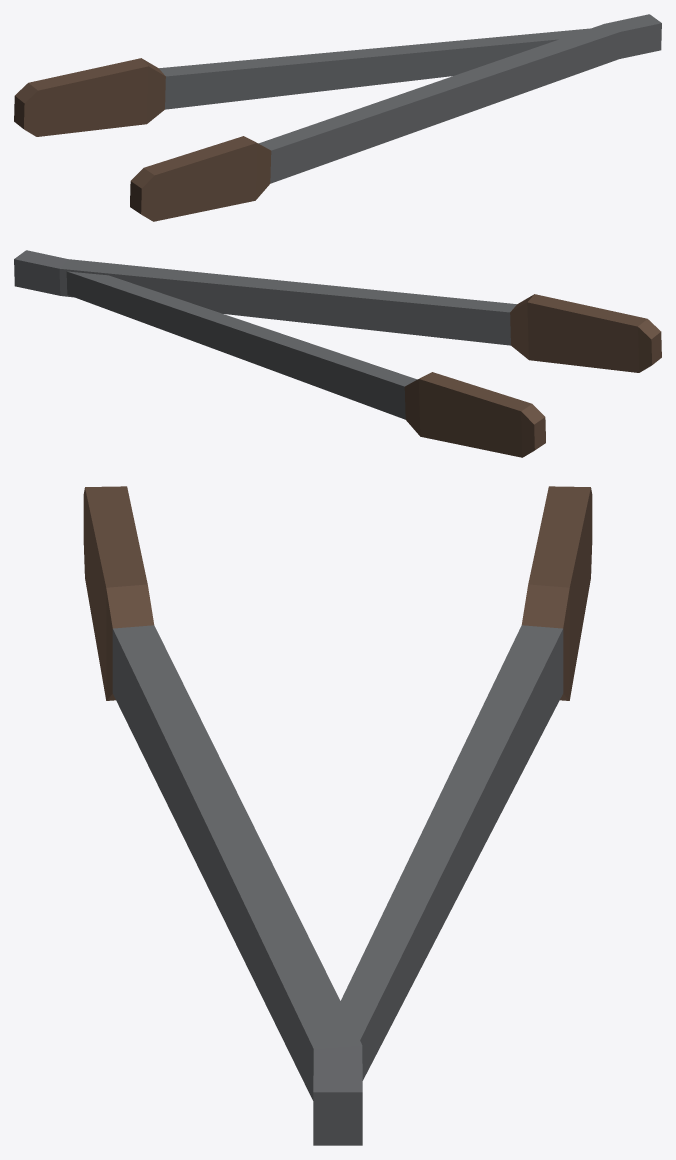
File: tongs.fbx
The picture shows the model from 3 angles, top to bottom: view 1: azimuth 30°, elevation 25°; view 2: azimuth 150°, elevation 25°; view 3: azimuth 270°, elevation 25°; orthographic projection. The views are drawn at different scales.
Parts seen in each view (by area): view 1: tongs; view 2: tongs; view 3: tongs.
Part boxes in pixels (left/top/right/bottom): tongs: left=14, top=14, right=661, bottom=221; tongs: left=14, top=250, right=661, bottom=457; tongs: left=83, top=486, right=592, bottom=1145.
Size of the model in its own units: 46.46 by 4.41 by 17.66.
Materials: 1 (1 with a texture image).
